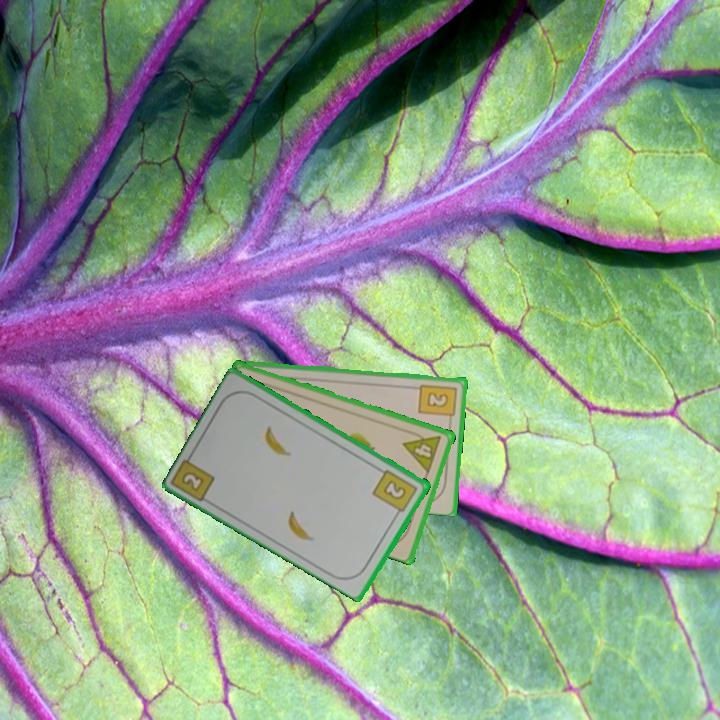2b: (369, 466, 421, 519), (416, 380, 460, 425), (178, 468, 207, 494)
4p: (400, 426, 444, 475)
